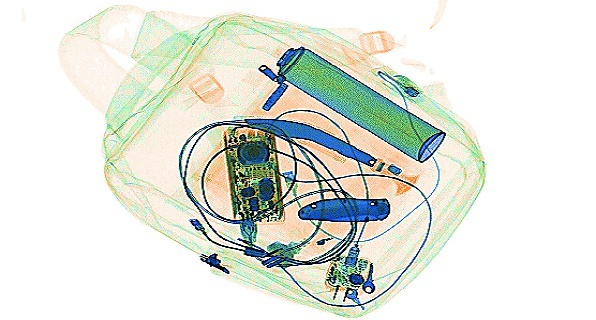knife: (242, 116, 419, 192), (295, 192, 390, 225)
pressure: (256, 34, 447, 162)
